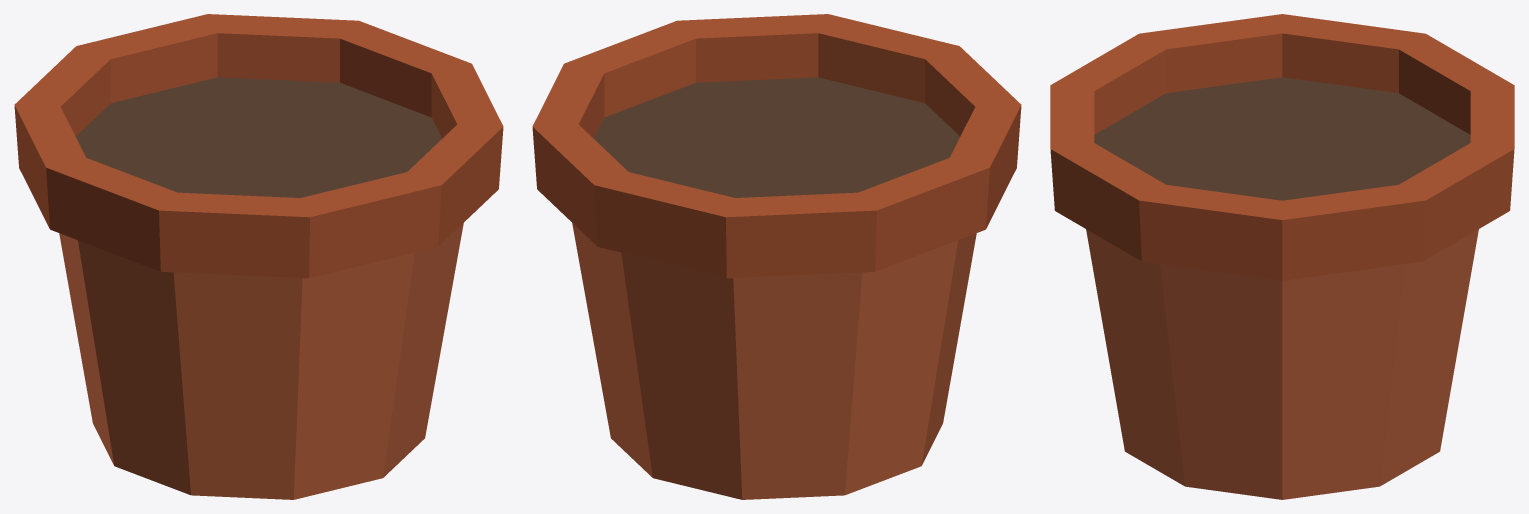
File: Pot_Medium.fbx
3 views of the same model, side by side, from view 1: azimuth 30°, elevation 25°; view 2: azimuth 150°, elevation 25°; view 3: azimuth 270°, elevation 25° (orthographic).
Visible parts, largest first — view 1: Pot_Medium; view 2: Pot_Medium; view 3: Pot_Medium.
Part boxes in pixels (box(x1,y1,x2,y2)): Pot_Medium: box(14, 14, 503, 499); Pot_Medium: box(532, 14, 1021, 499); Pot_Medium: box(1050, 14, 1514, 499).
Size of the model in its own units: 0.3392 by 0.24 by 0.3226.
